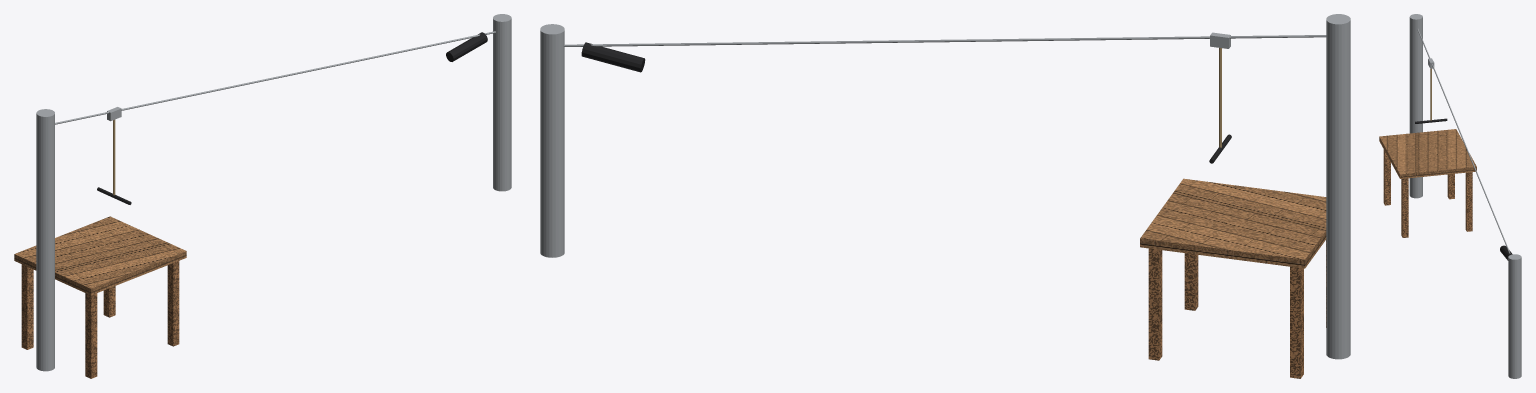
3 renders of one model, left to right at view 1: azimuth 30°, elevation 25°; view 2: azimuth 150°, elevation 25°; view 3: azimuth 270°, elevation 25°, orthographic. The views are drawn at different scales.
Parts seen in each view (by area): view 1: recreation.zip_line (×4); view 2: recreation.zip_line (×4); view 3: recreation.zip_line (×4).
Part boxes in pixels (bbox=[...]): recreation.zip_line (×4): bbox=[14, 14, 511, 378]; recreation.zip_line (×4): bbox=[540, 14, 1350, 378]; recreation.zip_line (×4): bbox=[1379, 14, 1521, 378].
Bounding box in the file's own units: 6.7 × 2.16 × 3.
Materials: 5 (2 with a texture image).
